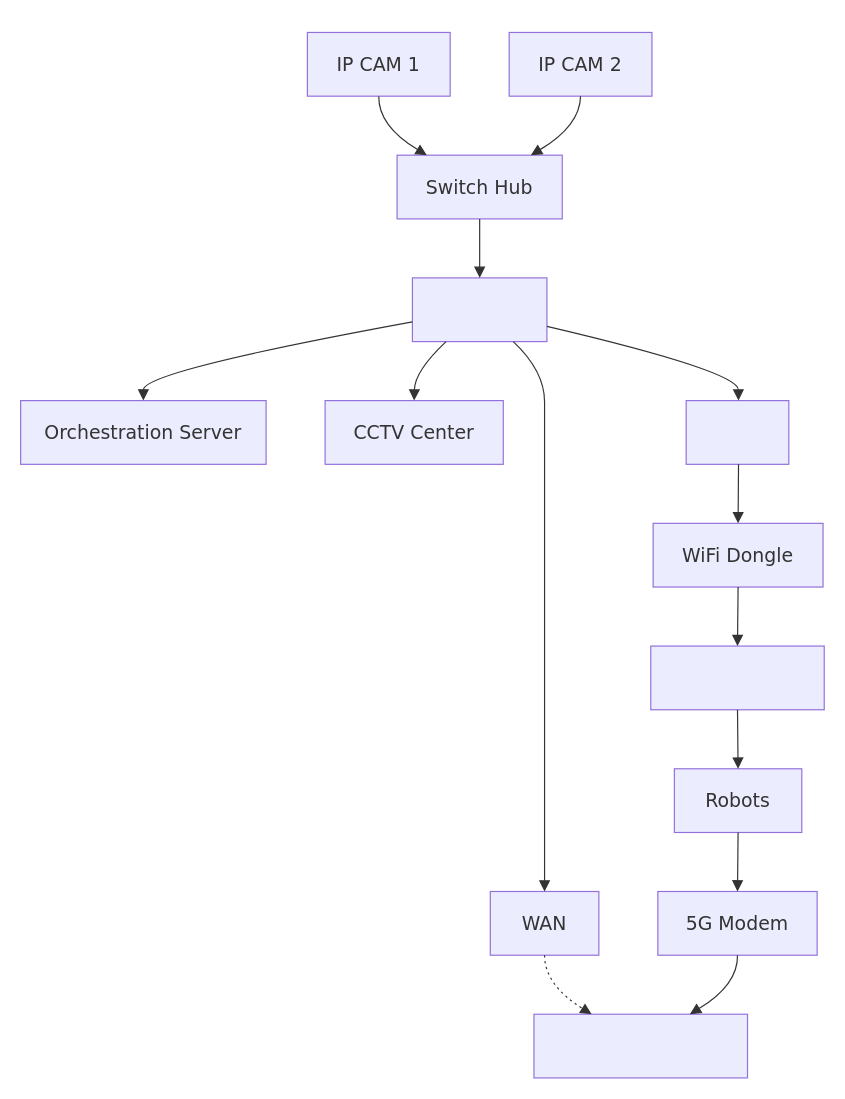
The diagram is 845 pixels wide and 1099 high, and some of its shapes have lost their labels. The centre of each missing label's shape, as x and y in pixels:
"Cellular Network" belongs at pixel 640 1045.
"RCS" belongs at pixel 737 431.
"WiFi AP" belongs at pixel 479 309.
"WiFi Modem" belongs at pixel 737 677.
